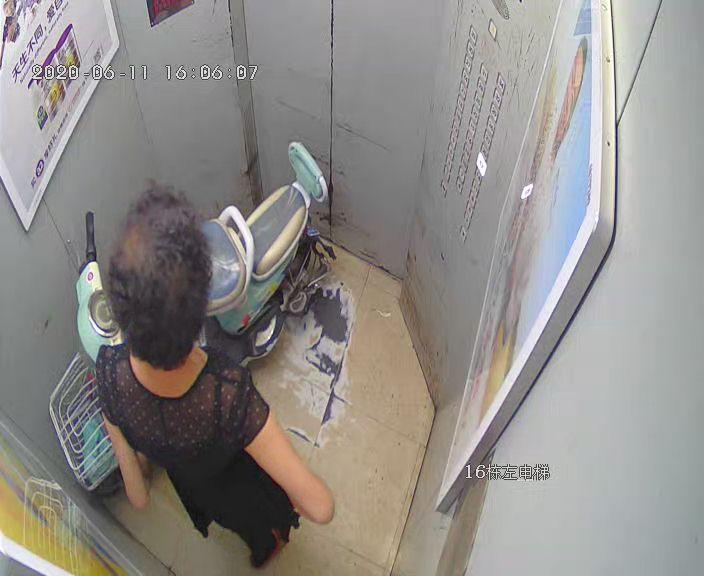Electric-bicycle: (50, 141, 328, 486)
